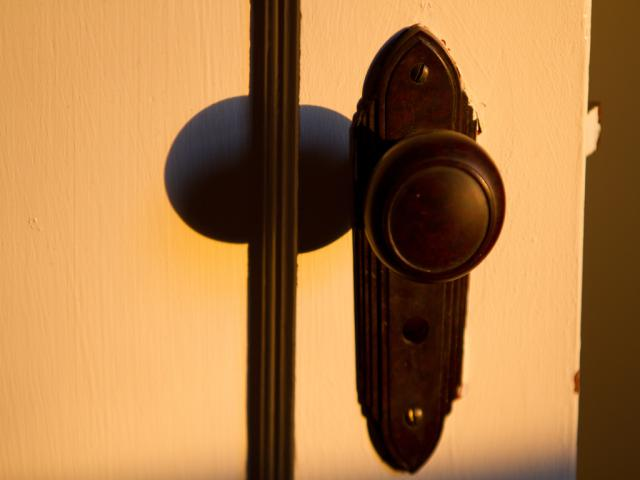Door-handle: (349, 21, 505, 477)
